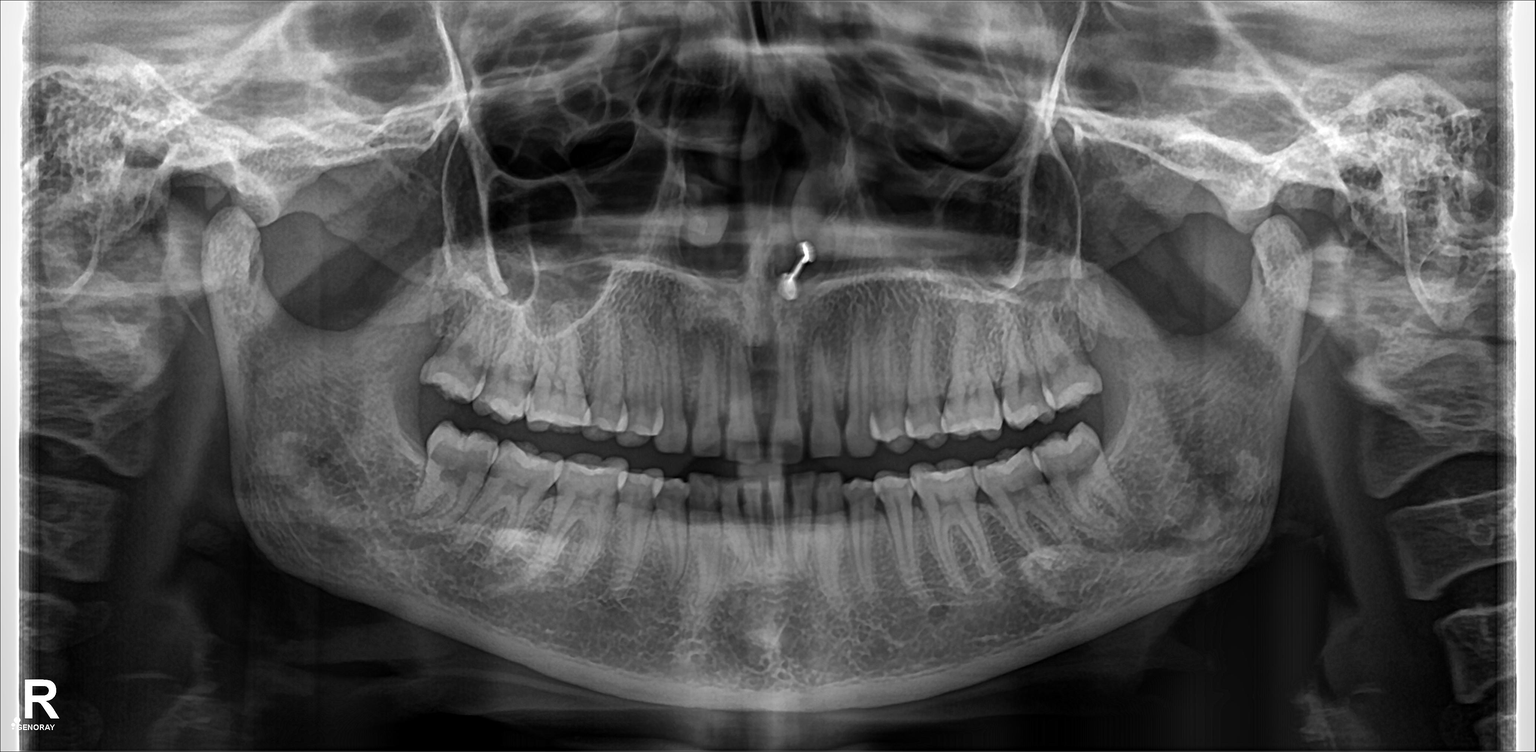Missing Tooth: (380, 387, 429, 503)
